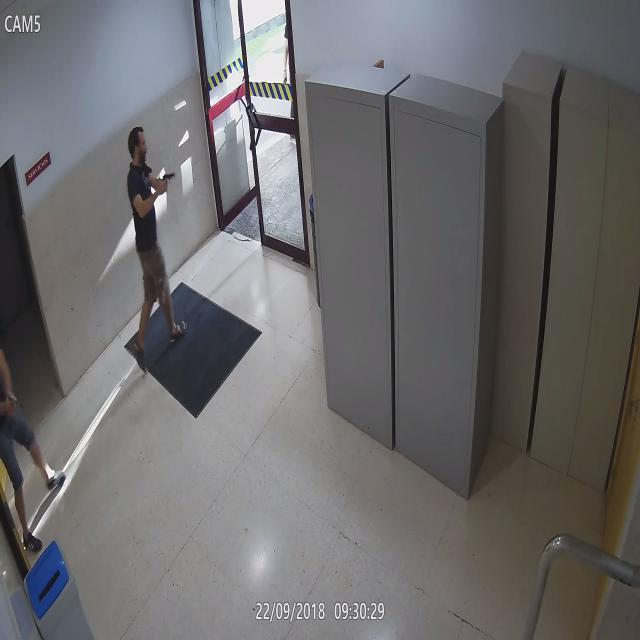Gun: (157, 169, 176, 197), (6, 390, 16, 414)
